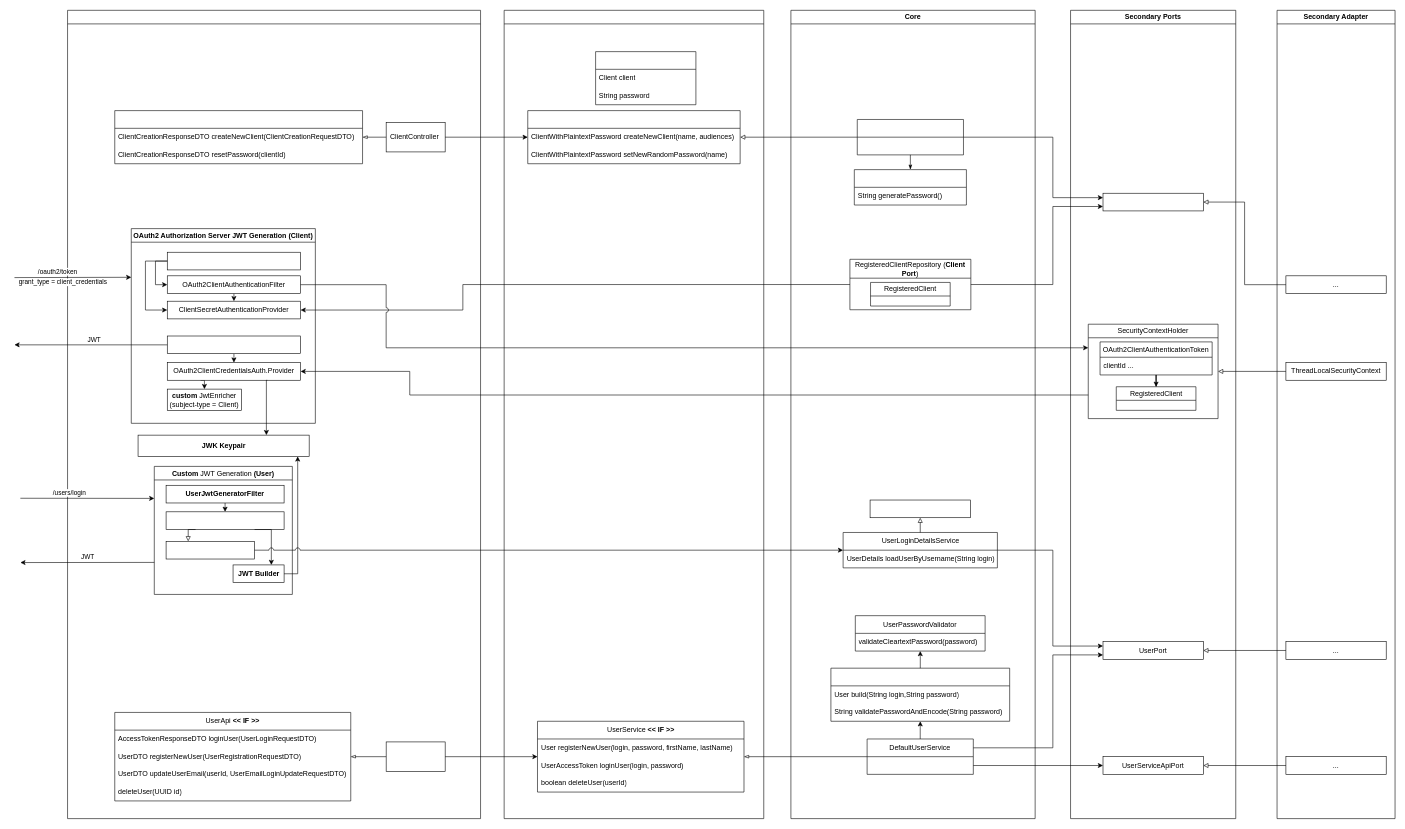
Some shapes in this 1405 by 829 pixel diagram are drawn without their labels. The shapes that lost their labels are listed below. From the top down, each one's box as (x1, y1, x2, y2) in pixels, then its label:
(595, 51, 696, 105): ClientWithPlaintextPassword
(114, 110, 363, 164): ClientApi << IF >>
(527, 110, 740, 164): ClientService << IF >>
(857, 119, 963, 155): DefaultClientService
(854, 169, 966, 205): ClientPasswordGenerator
(1102, 193, 1203, 211): ClientPort
(167, 252, 301, 270): OAauth2AuthorizationServerConfigurer
(167, 335, 301, 354): OAuth2TokenEndpointFilter
(67, 10, 481, 819): Primary Adapter
(504, 10, 764, 819): Primary Ports
(165, 511, 284, 530): UserAuthenticationProvider
(869, 499, 970, 518): UserDetailsService
(165, 541, 255, 559): DaoAuthenticationProvider
(830, 668, 1010, 721): UserFactory
(386, 741, 445, 771): UserController
